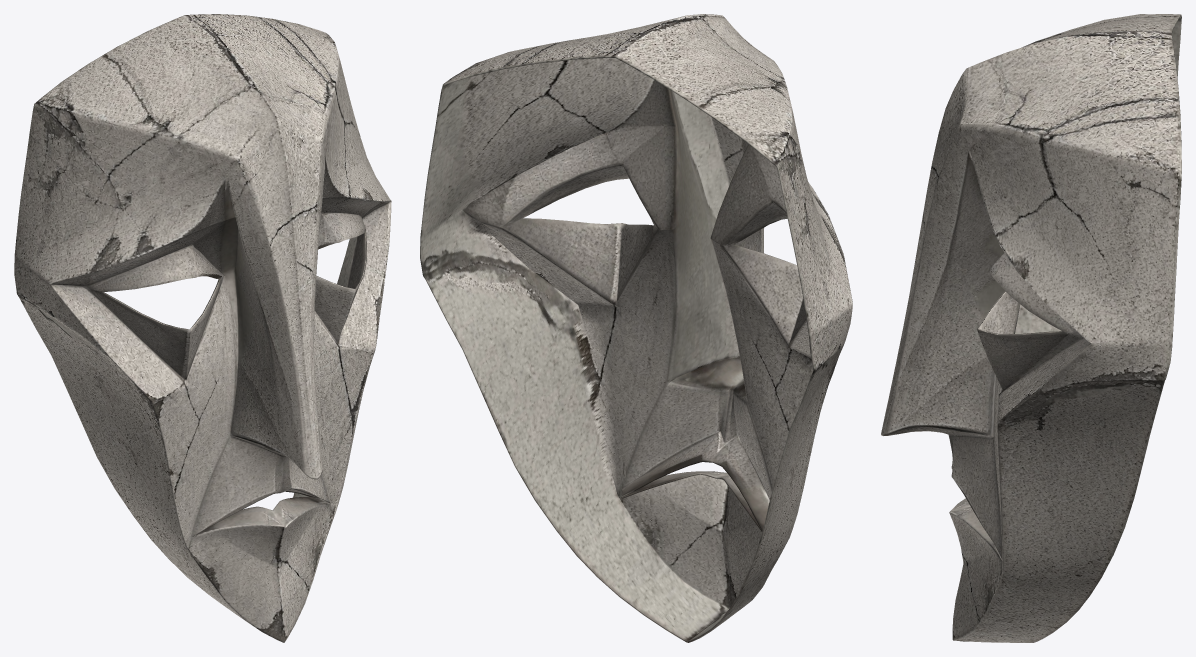
The model's file is rostro_3_escalera.glb.
The picture shows the model from 3 angles, left to right: view 1: azimuth 30°, elevation 25°; view 2: azimuth 150°, elevation 25°; view 3: azimuth 270°, elevation 25°; orthographic projection. The views are drawn at different scales.
Parts seen in each view (by area): view 1: tripo_node_9458c7cd-d9d4-4225-ab8d-eacbc5c39732; view 2: tripo_node_9458c7cd-d9d4-4225-ab8d-eacbc5c39732; view 3: tripo_node_9458c7cd-d9d4-4225-ab8d-eacbc5c39732.
Boxes of the visible parts, x1=… form: tripo_node_9458c7cd-d9d4-4225-ab8d-eacbc5c39732: x1=14, y1=14, x2=391, y2=642; tripo_node_9458c7cd-d9d4-4225-ab8d-eacbc5c39732: x1=420, y1=14, x2=852, y2=642; tripo_node_9458c7cd-d9d4-4225-ab8d-eacbc5c39732: x1=881, y1=14, x2=1181, y2=642.
Bounding box in the file's own units: 0.6411 × 0.9995 × 0.4458.
Materials: 1 (1 with a texture image).
